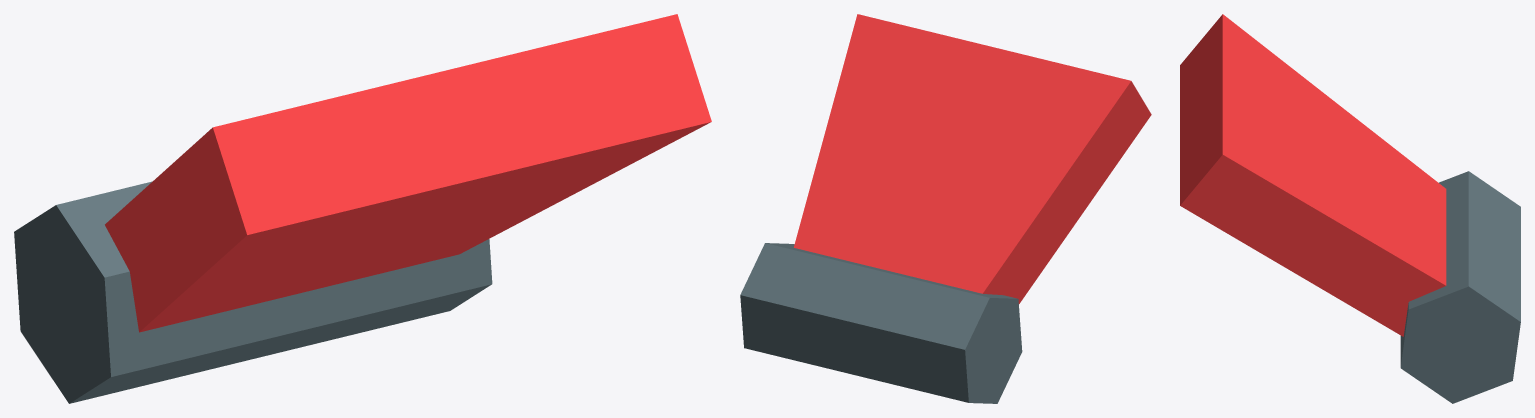
Rendered from Terminal_014_switch_002.fbx.
3 renders of one model, left to right at view 1: azimuth 30°, elevation 25°; view 2: azimuth 150°, elevation 25°; view 3: azimuth 270°, elevation 25°, orthographic. The views are drawn at different scales.
Visible parts, largest first — view 1: Terminal_014_switch_002; view 2: Terminal_014_switch_002; view 3: Terminal_014_switch_002.
Part boxes in pixels (<box>): Terminal_014_switch_002: <box>14,14,711,403</box>; Terminal_014_switch_002: <box>740,14,1151,403</box>; Terminal_014_switch_002: <box>1180,14,1520,403</box>.
Size of the model in its own units: 5.62 by 5.76 by 4.89.
